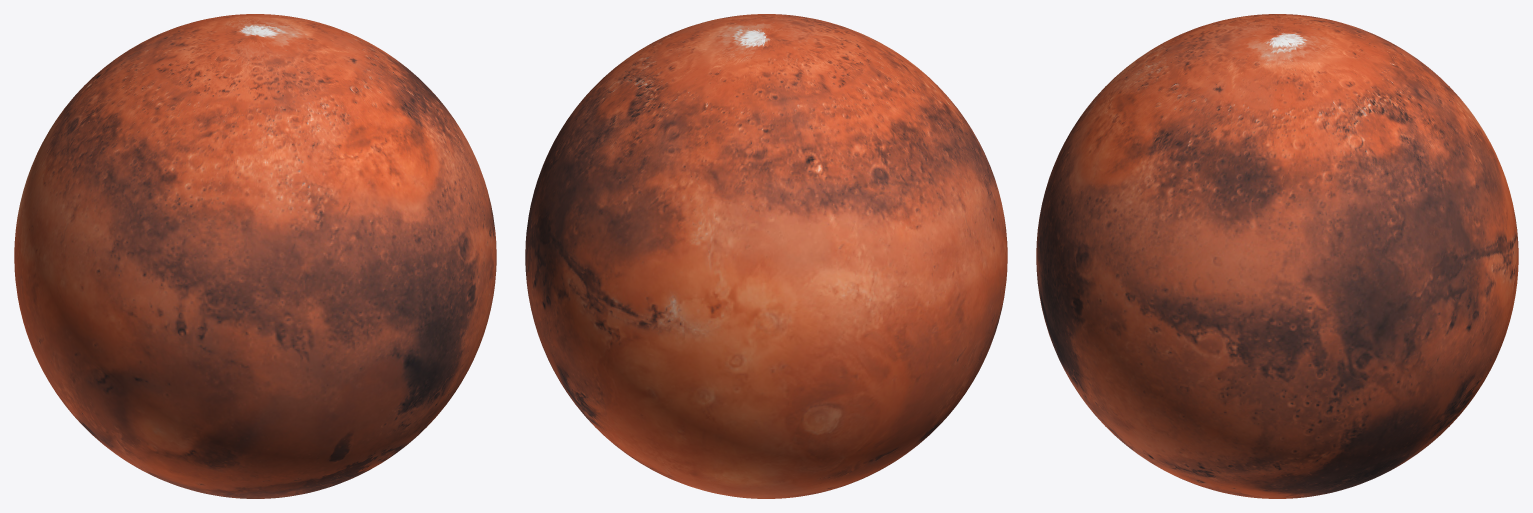
Rendered from mars.glb.
3 views of the same model, side by side, from view 1: azimuth 30°, elevation 25°; view 2: azimuth 150°, elevation 25°; view 3: azimuth 270°, elevation 25° (orthographic).
Visible parts, largest first — view 1: Mars; view 2: Mars; view 3: Mars.
Part boxes in pixels (x1=…): Mars: x1=14, y1=14, x2=496, y2=498; Mars: x1=525, y1=14, x2=1007, y2=498; Mars: x1=1036, y1=14, x2=1518, y2=498.
Bounding box in the file's own units: 1.97 × 2 × 1.97.
1 material, 1 textured.
